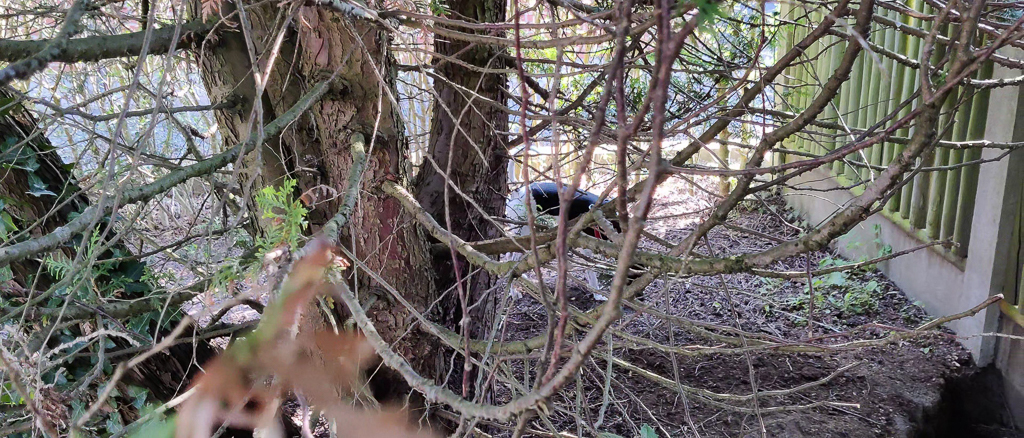Dog: (496, 143, 653, 308)
